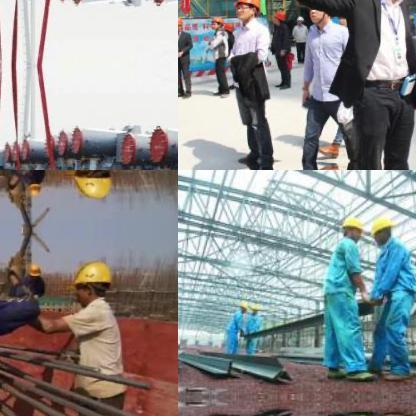Helmet: (70, 258, 112, 306), (70, 170, 112, 199), (338, 214, 364, 238), (368, 214, 393, 238), (230, 0, 261, 18), (24, 257, 42, 277), (24, 179, 42, 199), (208, 13, 226, 29), (269, 8, 283, 22), (178, 12, 184, 32), (294, 13, 304, 24)
